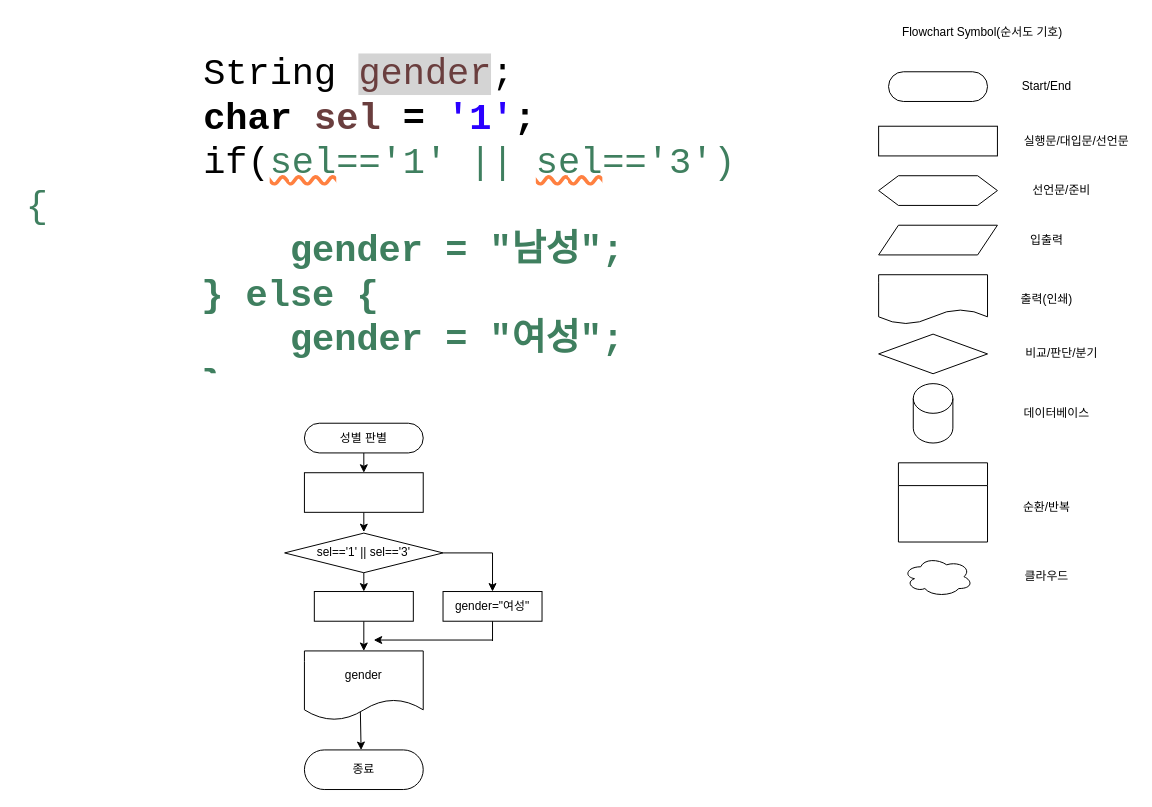
Some shapes in this 1152 by 807 pixel diagram are drawn without their labels. The centre of each missing label's shape, as x and y in pixels:
gender="남성": point 363,606
String gender; char sel = '1';: point 363,492
Vertical Container: point 942,502
